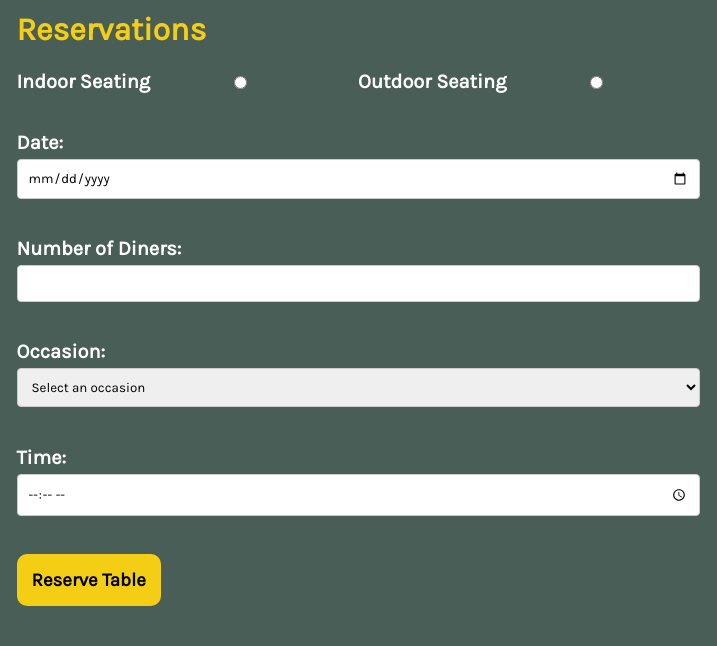
BookingForm › displays error messages for empty required fields on form submission
(page scrolled)
// Submit the form
Click the button "Reserve Table" at (89, 580), box [16,554,161,606]
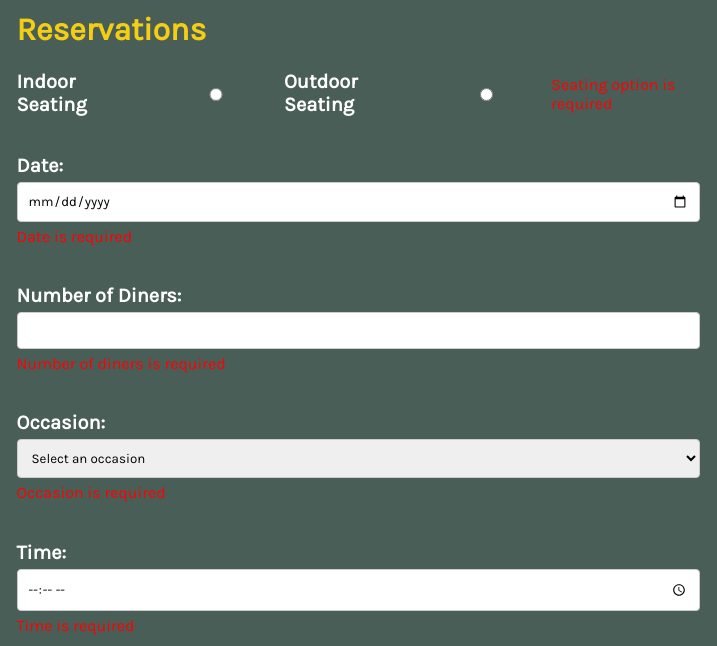
Result: the text "Seating option is required" is shown at [551,75,676,113]
Result: the text "Date is required" is shown at [16,227,132,246]
Result: the text "Number of diners is required" is shown at [16,354,226,373]
